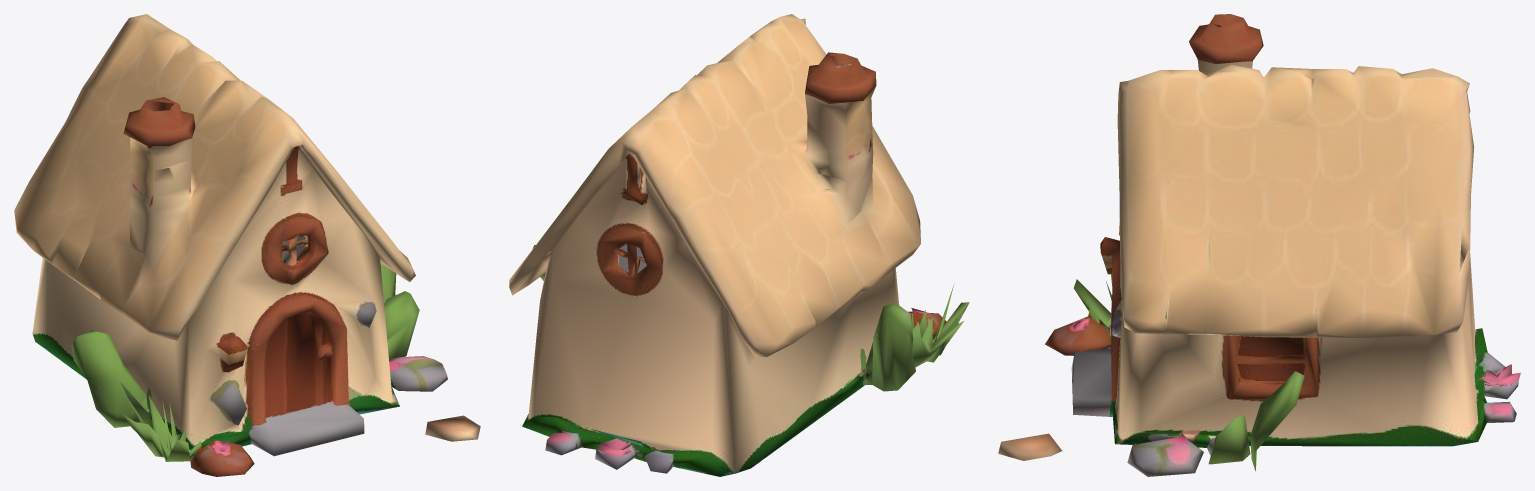
File: hut_1.glb
3 views of the same model, side by side, from view 1: azimuth 30°, elevation 25°; view 2: azimuth 150°, elevation 25°; view 3: azimuth 270°, elevation 25° (orthographic). The views are drawn at different scales.
Visible parts, largest first — view 1: ЦІЛЬ; view 2: ЦІЛЬ; view 3: ЦІЛЬ.
Boxes of the visible parts, <box> form: ЦІЛЬ: <box>14,14,480,476</box>; ЦІЛЬ: <box>509,14,969,476</box>; ЦІЛЬ: <box>998,14,1520,476</box>.
Bounding box in the file's own units: 1.66 × 1.42 × 2.06.
1 material, 1 textured.
